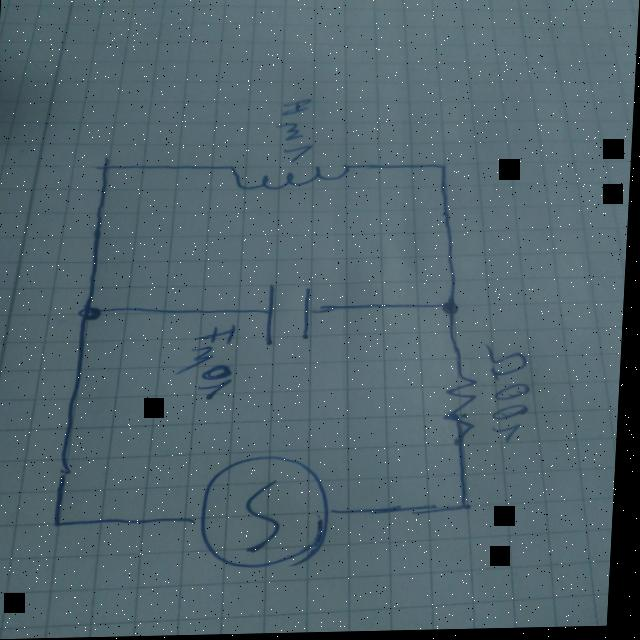capacitor: (263, 281, 318, 350)
inductor: (226, 160, 354, 194)
junction: (76, 300, 108, 325), (47, 512, 79, 535), (437, 297, 466, 321), (456, 499, 485, 520), (95, 157, 120, 177), (429, 162, 456, 179)
resistor: (442, 372, 486, 451)
source: (200, 454, 339, 574)
text: (482, 346, 537, 447), (178, 323, 243, 402), (274, 99, 317, 168)
